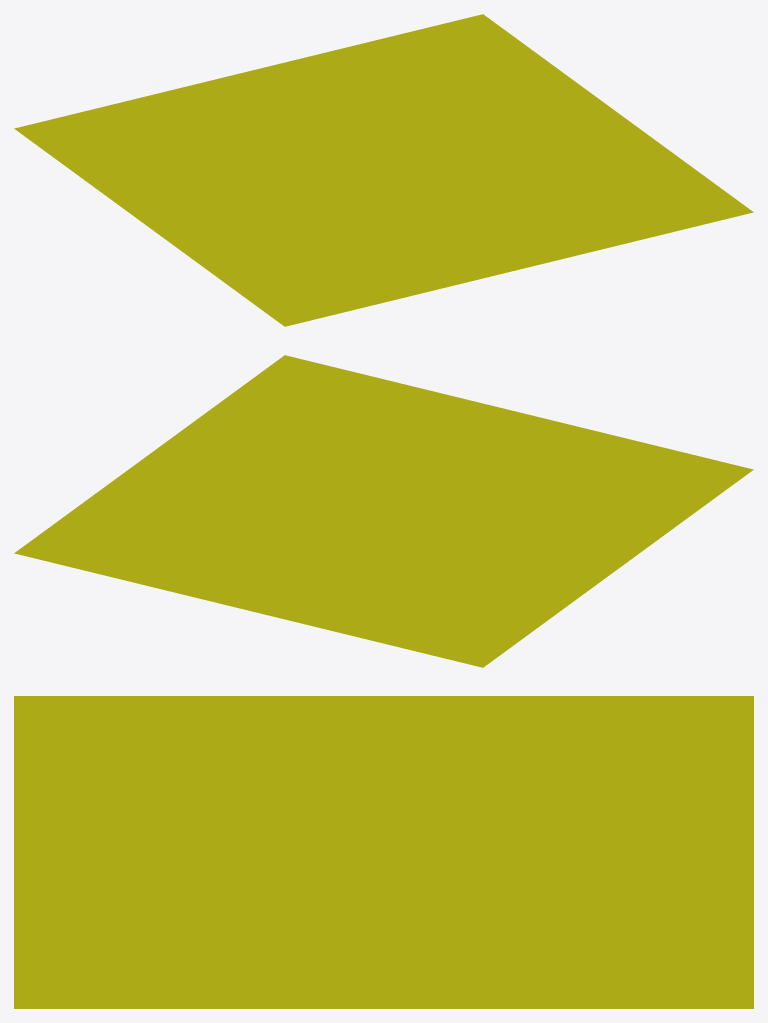
Rendered from ground.obj.
The picture shows the model from 3 angles, top to bottom: view 1: azimuth 30°, elevation 25°; view 2: azimuth 150°, elevation 25°; view 3: azimuth 270°, elevation 25°; orthographic projection. The views are drawn at different scales.
Visible parts, largest first — view 1: Grid; view 2: Grid; view 3: Grid.
Boxes of the visible parts, x1=… form: Grid: x1=14, y1=14, x2=753, y2=326; Grid: x1=14, y1=355, x2=753, y2=667; Grid: x1=14, y1=696, x2=753, y2=1008.
Size of the model in its own units: 7.96 by 0 by 7.96.
